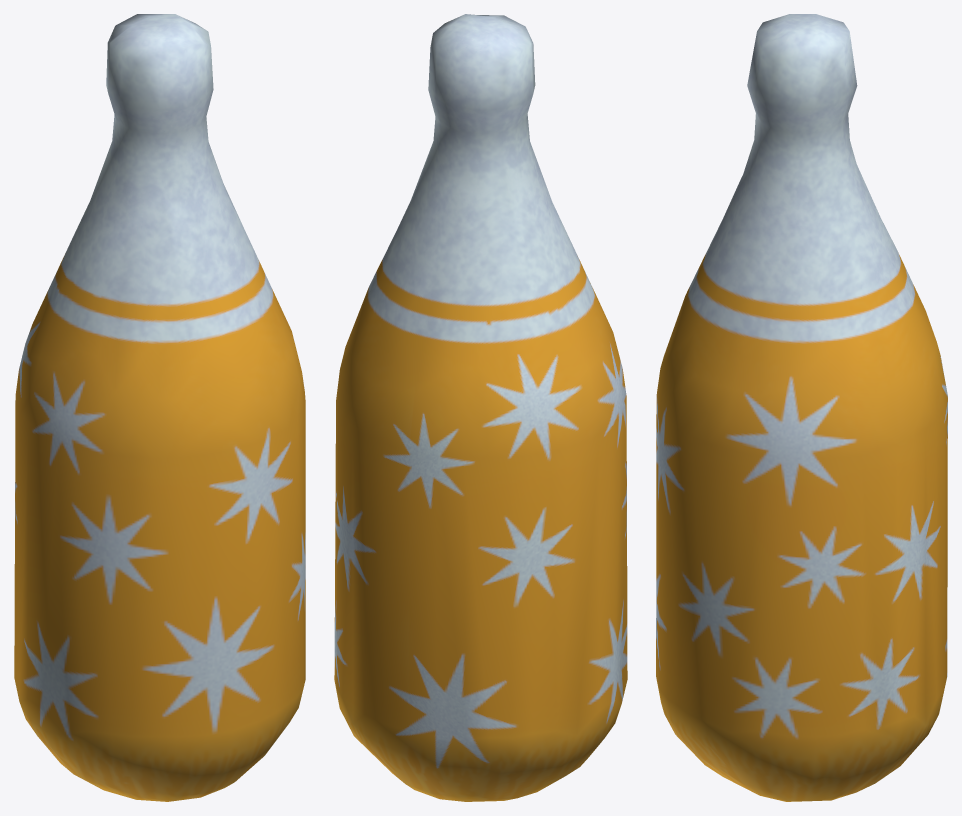
The model's file is PartyBalloons02_6.FBX.
The picture shows the model from 3 angles, left to right: view 1: azimuth 30°, elevation 25°; view 2: azimuth 150°, elevation 25°; view 3: azimuth 270°, elevation 25°; orthographic projection.
Parts seen in each view (by area): view 1: PartyBalloons02_6; view 2: PartyBalloons02_6; view 3: PartyBalloons02_6.
Part boxes in pixels (<box>): PartyBalloons02_6: <box>14,14,305,801</box>; PartyBalloons02_6: <box>334,14,627,801</box>; PartyBalloons02_6: <box>656,14,947,801</box>.
Size of what is drawn, in the model's own units: 0.3578 by 1.03 by 0.3608.
